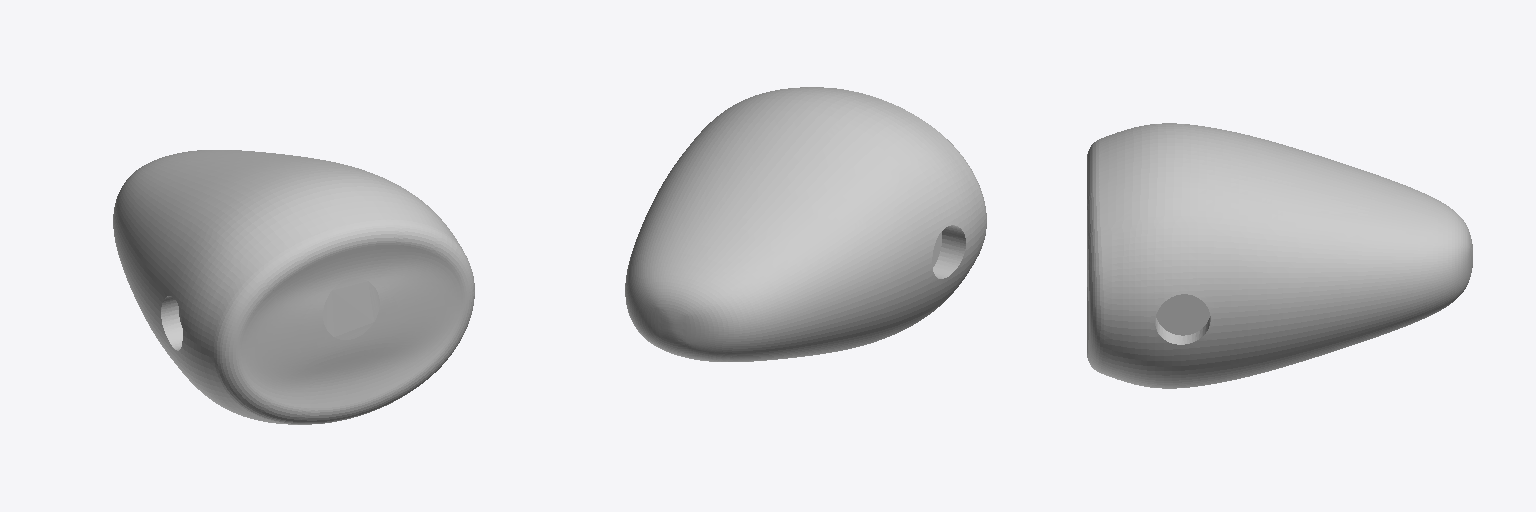
Rendered from eve_body.obj.
The picture shows the model from 3 angles: view 1: azimuth 30°, elevation 25°; view 2: azimuth 150°, elevation 25°; view 3: azimuth 270°, elevation 25°; orthographic projection.
Parts seen in each view (by area): view 1: Body; view 2: Body; view 3: Body.
Boxes of the visible parts, <box> form: Body: <box>113,150,474,424</box>; Body: <box>625,87,986,361</box>; Body: <box>1087,123,1472,388</box>.
Bounding box in the file's own units: 0.6313 × 0.5048 × 0.7796.